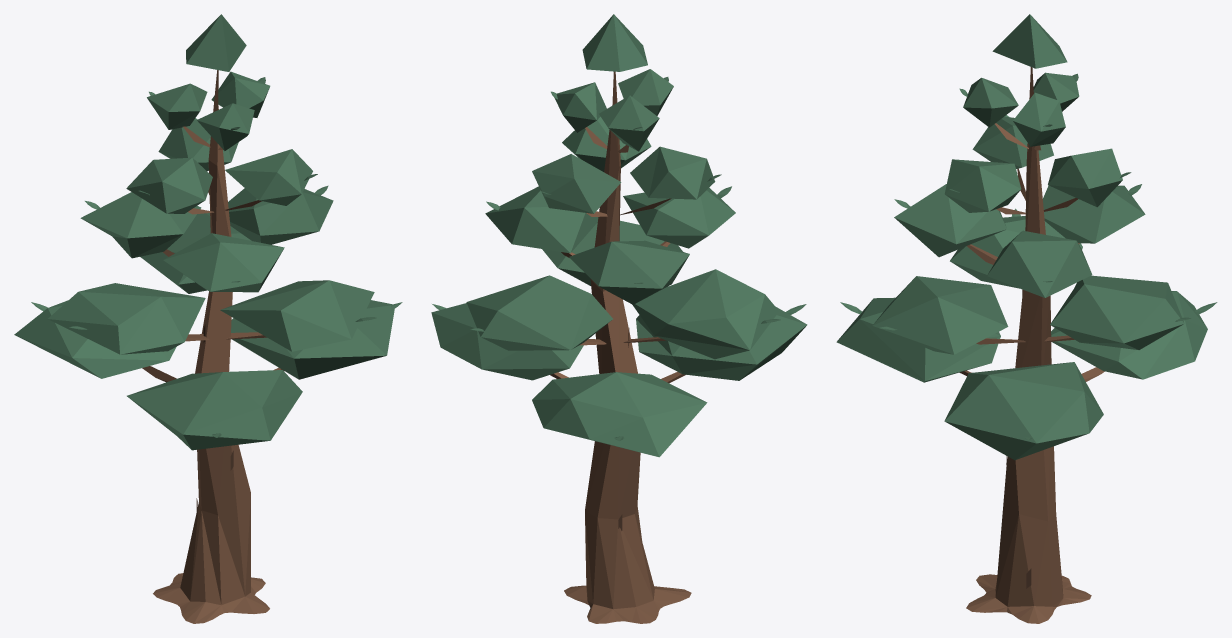
The model's file is pine_spring.glb.
3 renders of one model, left to right at view 1: azimuth 30°, elevation 25°; view 2: azimuth 150°, elevation 25°; view 3: azimuth 270°, elevation 25°, orthographic.
Visible parts, largest first — view 1: leaves, branches; view 2: leaves, branches; view 3: leaves, branches.
Part boxes in pixels (left/top/right/bottom): leaves: left=14, top=14, right=402, bottom=450; branches: left=142, top=70, right=284, bottom=623; leaves: left=431, top=14, right=807, bottom=457; branches: left=550, top=71, right=691, bottom=623; leaves: left=836, top=14, right=1217, bottom=460; branches: left=959, top=67, right=1104, bottom=623.
Size of the model in its own units: 3.2 by 5.21 by 3.06.
